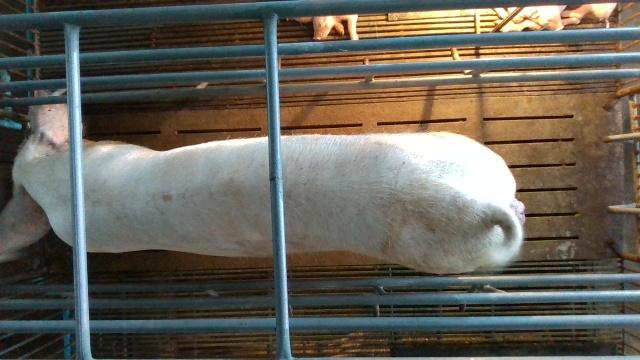piglet: (276, 0, 372, 52), (485, 2, 568, 34)
sow-stand: (2, 86, 526, 275)
